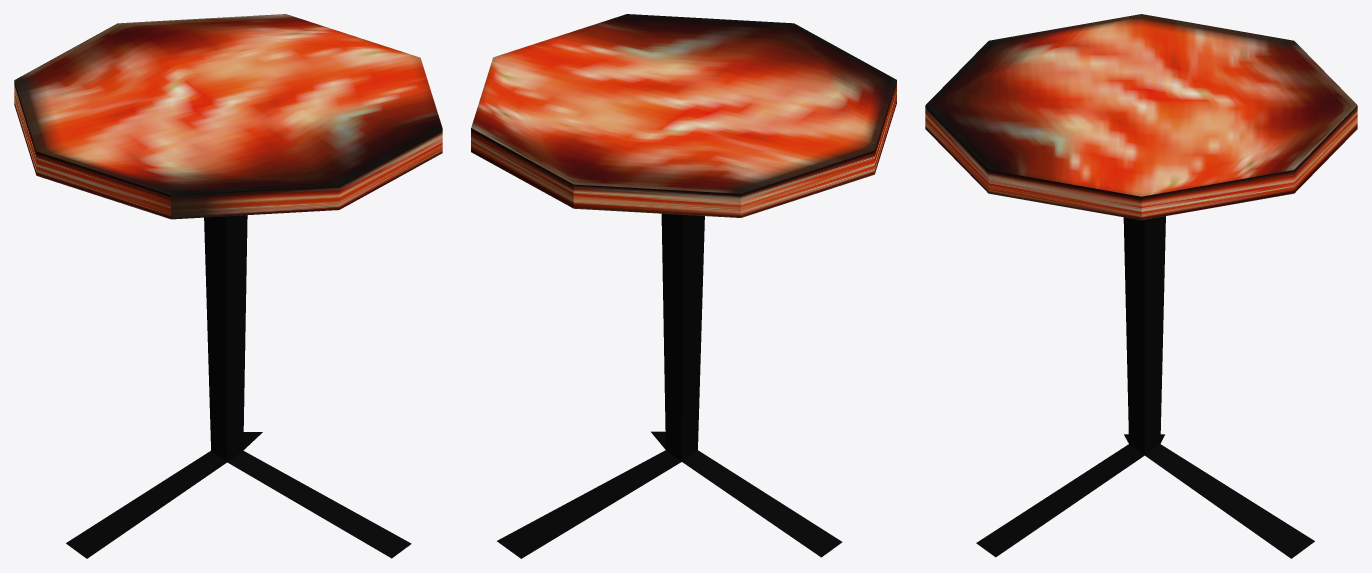
The model's file is Tisch_RundKlein_230.glb.
3 renders of one model, left to right at view 1: azimuth 30°, elevation 25°; view 2: azimuth 150°, elevation 25°; view 3: azimuth 270°, elevation 25°, orthographic. The views are drawn at different scales.
Parts seen in each view (by area): view 1: pPlaneShape102, pCylinderShape194, pCylinderShape192, pPlaneShape101, pPlaneShape99; view 2: pPlaneShape102, pCylinderShape194, pCylinderShape192, pPlaneShape100, pPlaneShape99; view 3: pPlaneShape102, pCylinderShape194, pCylinderShape192, pPlaneShape100, pPlaneShape101.
Boxes of the visible parts, x1,y1,x2,y2 form: pPlaneShape102: (14,14,442,194); pCylinderShape194: (14,81,442,219); pCylinderShape192: (204,215,247,462); pPlaneShape101: (227,450,411,558); pPlaneShape99: (66,451,226,558); pPlaneShape102: (471,14,896,193); pCylinderShape194: (471,80,896,217); pCylinderShape192: (661,213,704,461); pPlaneShape100: (497,450,681,558); pPlaneShape99: (682,450,842,557); pPlaneShape102: (925,14,1357,196); pCylinderShape194: (925,106,1357,220); pCylinderShape192: (1123,216,1165,455); pPlaneShape100: (1145,444,1314,558); pPlaneShape101: (976,444,1144,557).
Bounding box in the file's own units: 0.1092 × 0.1119 × 0.1092.
6 materials, 2 textured.
